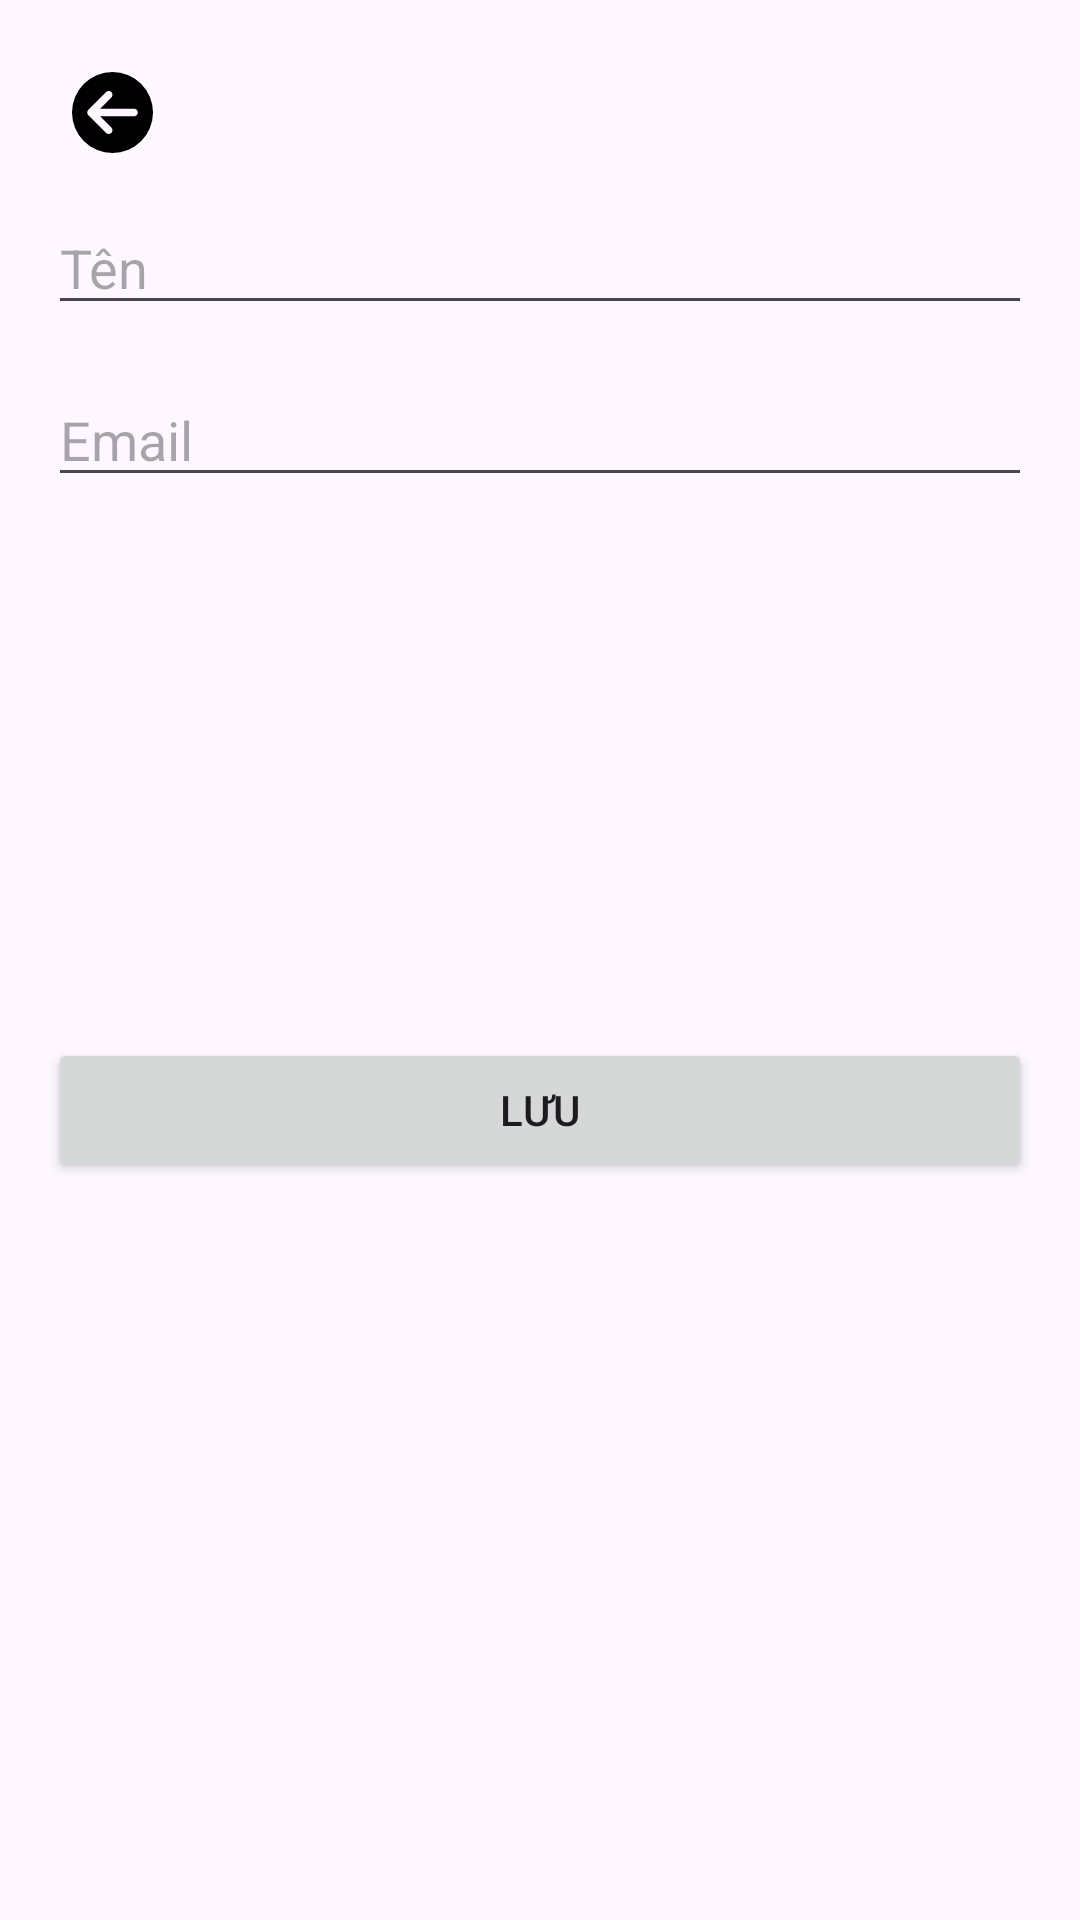

Point at icon controls on the screen. Image size 1080 x 1920, points as point (x, y).
circle arrow left: point (112, 112)
